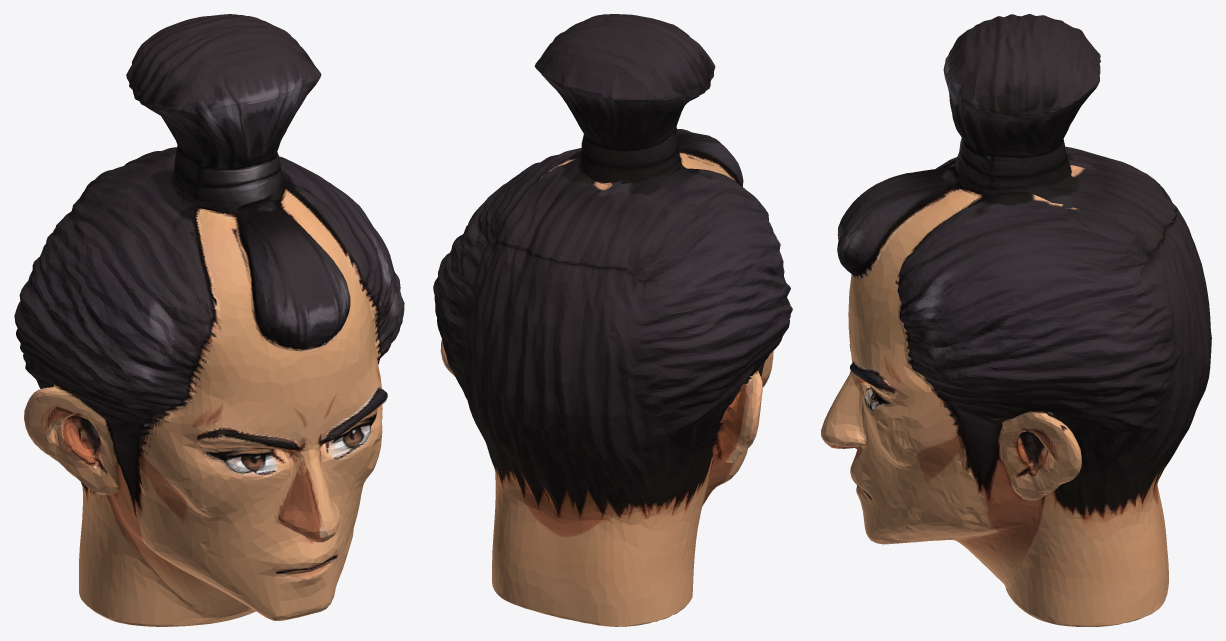
File: side_seppunguard_repaired_atlas.glb
3 views of the same model, side by side, from view 1: azimuth 30°, elevation 25°; view 2: azimuth 150°, elevation 25°; view 3: azimuth 270°, elevation 25° (orthographic). The views are drawn at different scales.
Visible parts, largest first — view 1: temp_mesh.ply; view 2: temp_mesh.ply; view 3: temp_mesh.ply.
Part boxes in pixels (bbox=[...]): temp_mesh.ply: bbox=[14, 14, 404, 626]; temp_mesh.ply: bbox=[433, 14, 792, 626]; temp_mesh.ply: bbox=[821, 14, 1211, 626].
Bounding box in the file's own units: 0.8643 × 1.43 × 0.9038.
Materials: 1 (1 with a texture image).
